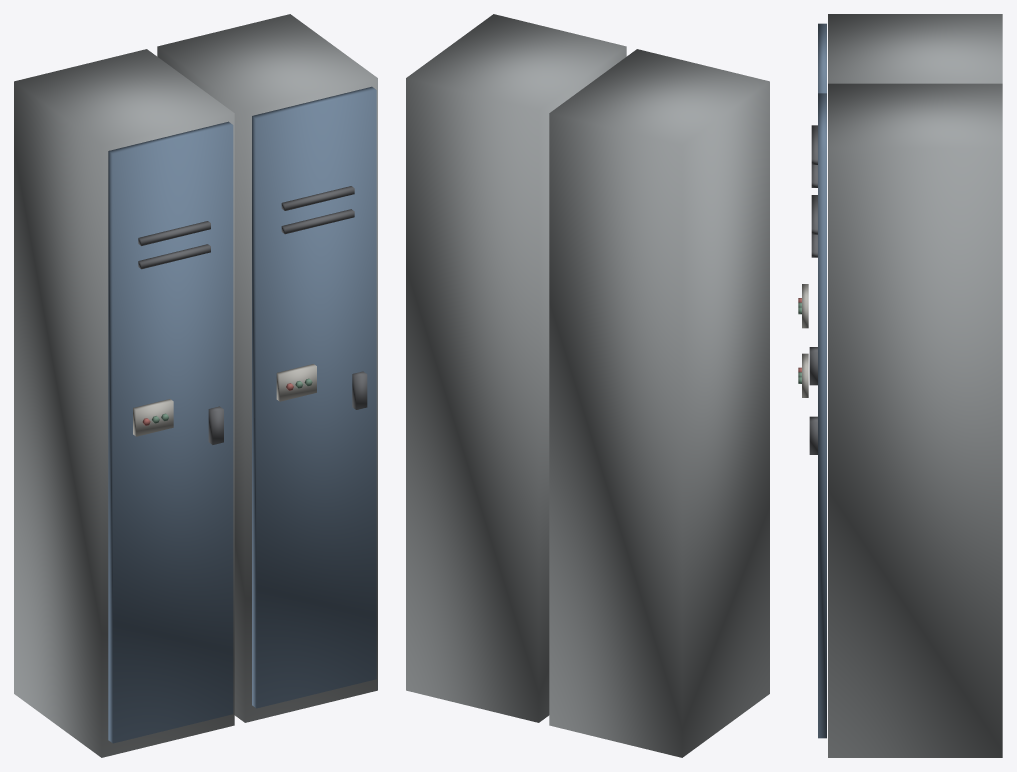
The model's file is single_locker__cluster.glb.
3 views of the same model, side by side, from view 1: azimuth 30°, elevation 25°; view 2: azimuth 150°, elevation 25°; view 3: azimuth 270°, elevation 25° (orthographic).
Visible parts, largest first — view 1: world; view 2: world; view 3: world.
Boxes of the visible parts, x1,y1,x2,y2 form: world: (14, 14, 377, 757); world: (406, 14, 769, 757); world: (798, 14, 1002, 757).
Bounding box in the file's own units: 0.8736 × 1.85 × 0.561.
